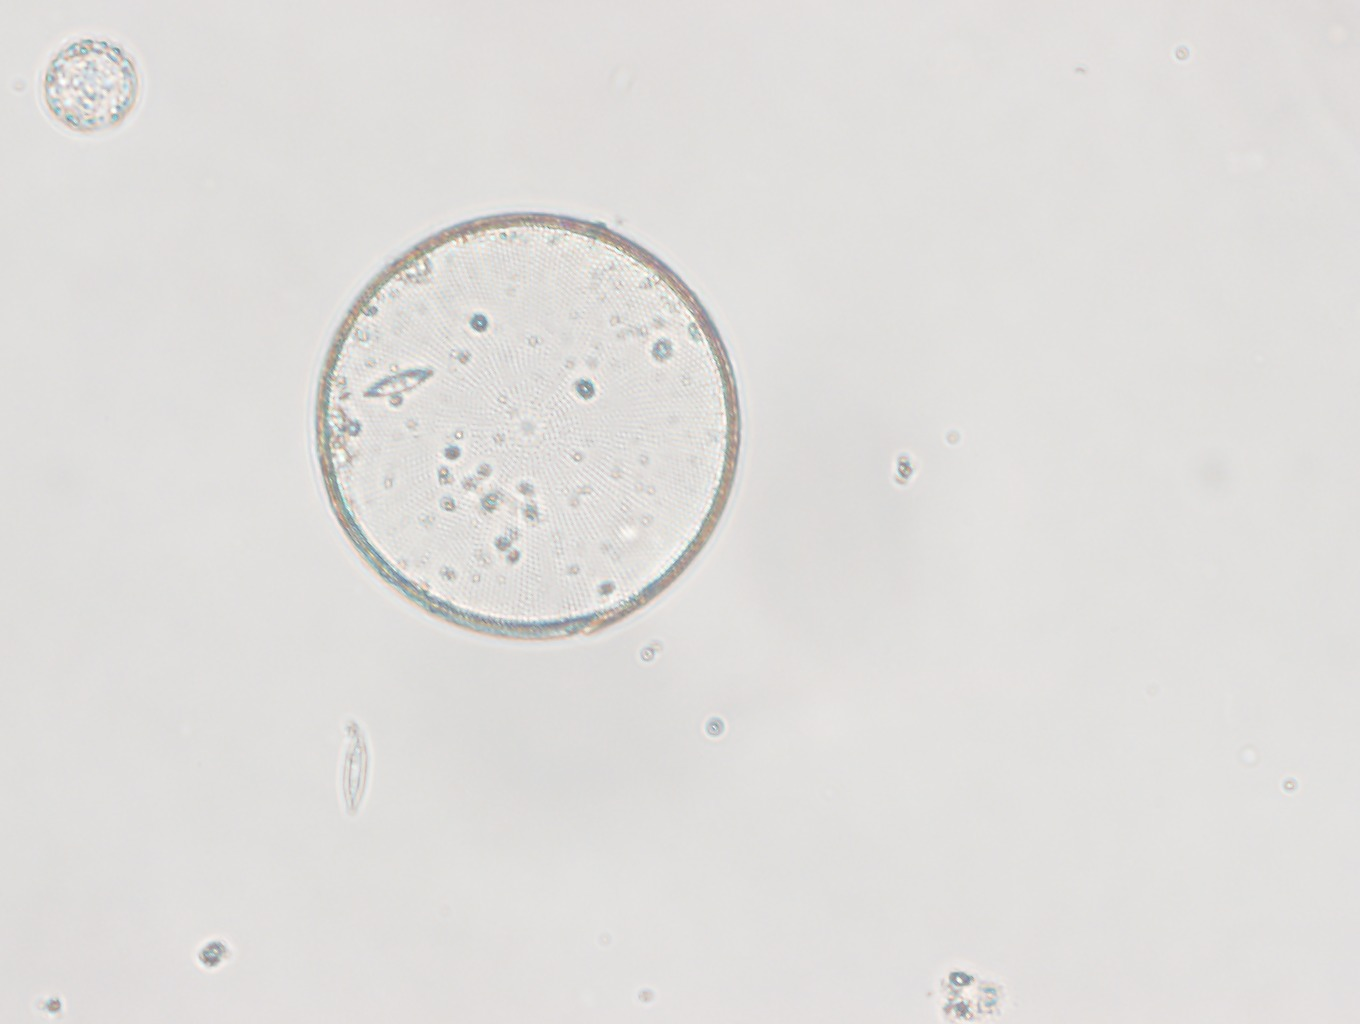coscinodiscus: (311, 207, 740, 637)
